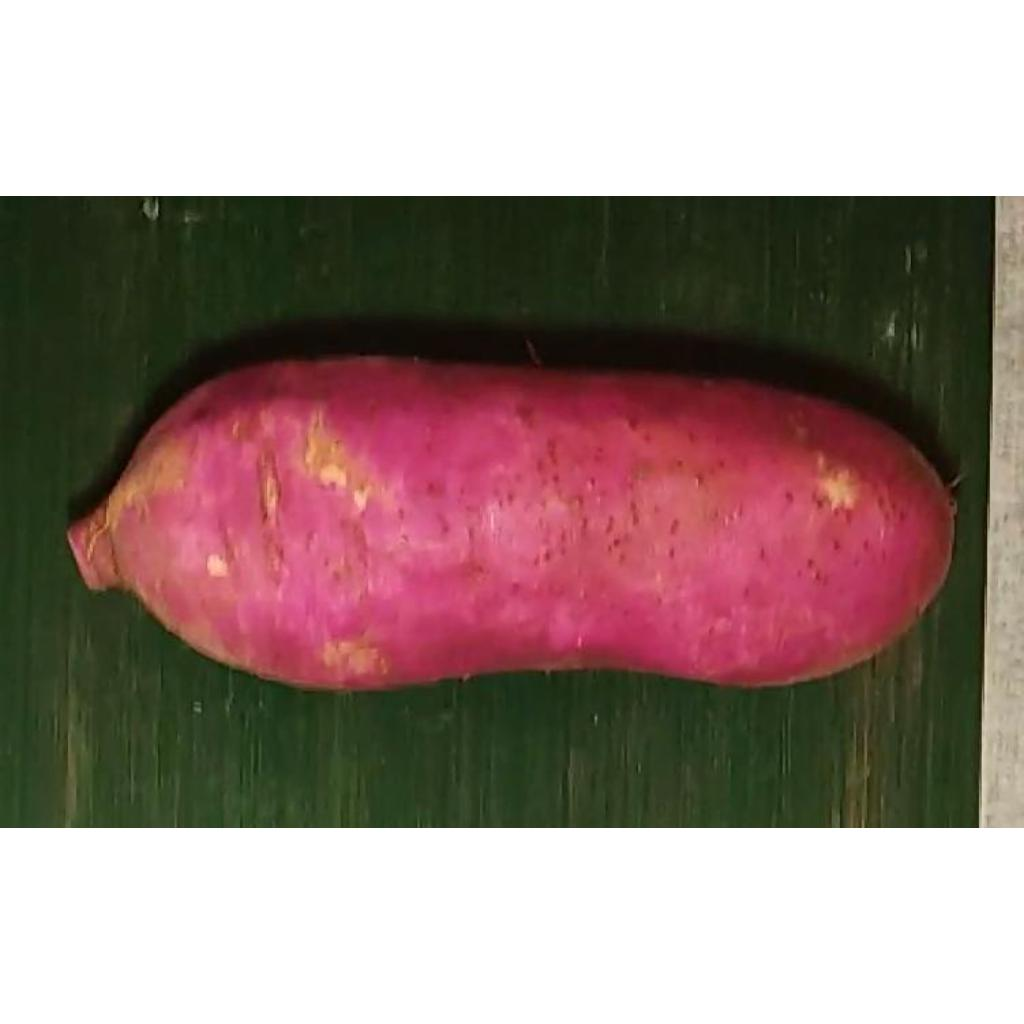Sweet Potato: (79, 356, 956, 694)
